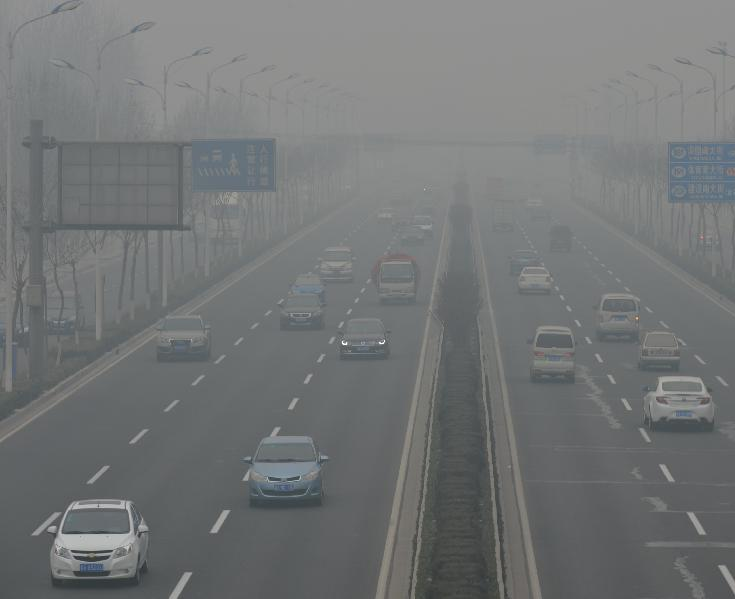bus: (370, 255, 421, 305), (491, 199, 515, 232), (513, 173, 531, 201), (485, 176, 505, 200)
car: (46, 498, 150, 588), (241, 435, 329, 507), (642, 375, 716, 433), (526, 324, 579, 385), (154, 314, 211, 362), (591, 293, 643, 344), (336, 317, 392, 361), (39, 288, 86, 336), (637, 329, 683, 373), (277, 294, 327, 331), (1, 299, 35, 349), (315, 245, 356, 284), (287, 272, 328, 306), (516, 265, 554, 295), (507, 249, 541, 277), (549, 224, 574, 251), (410, 214, 435, 240), (398, 224, 425, 247), (530, 209, 551, 225), (525, 196, 545, 212), (376, 207, 393, 224)
